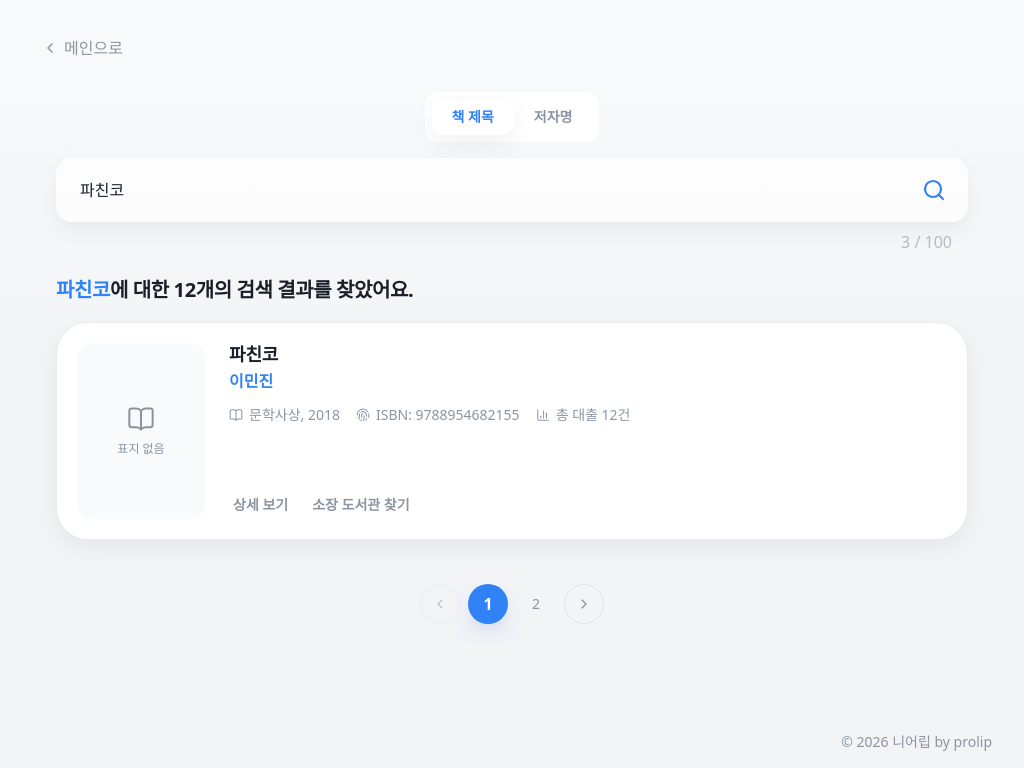
Scenario: app router integration › 도서 검색 결과에서 소장 도서관 찾기를 누르면 지역 선택 창을 열고 다시 닫을 수 있다
Click the button "소장 도서관 찾기" at (361, 505), box [308,491,414,519]
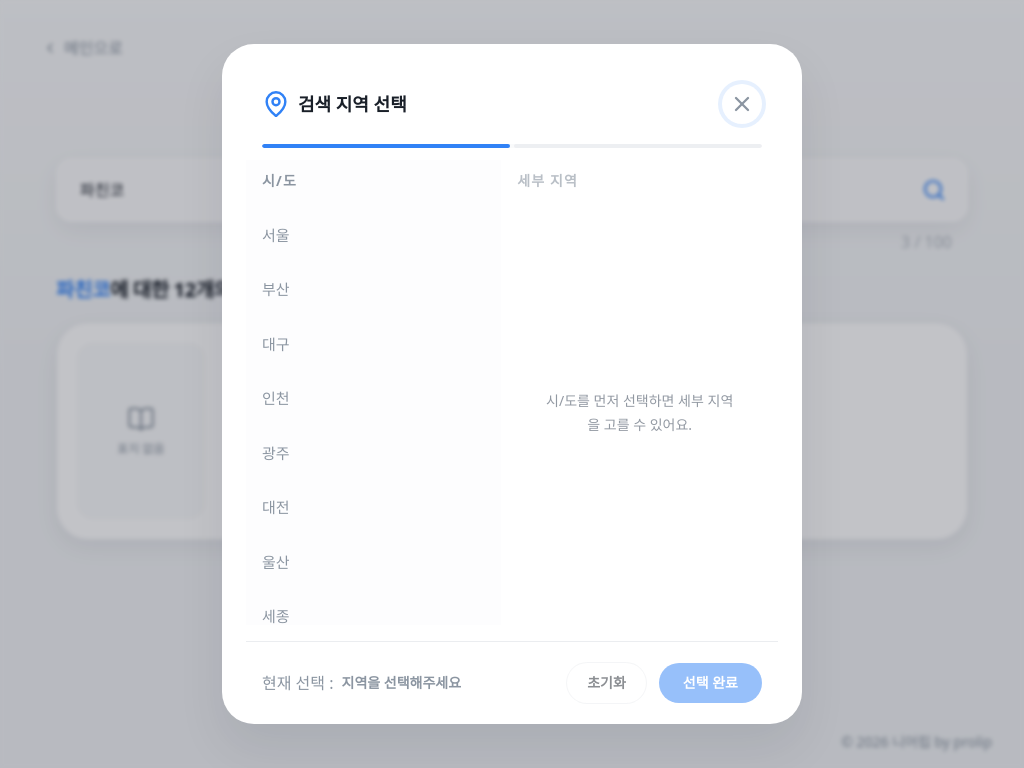
Check: the dialog "검색 지역 선택" is shown, box [222,44,802,724]
Check: the heading "시/도" is shown, box [262,171,297,190]
Check: the heading "세부 지역" is shown, box [517,171,578,190]
Click the button named "닫기" at (742, 104), box [722,84,762,124]
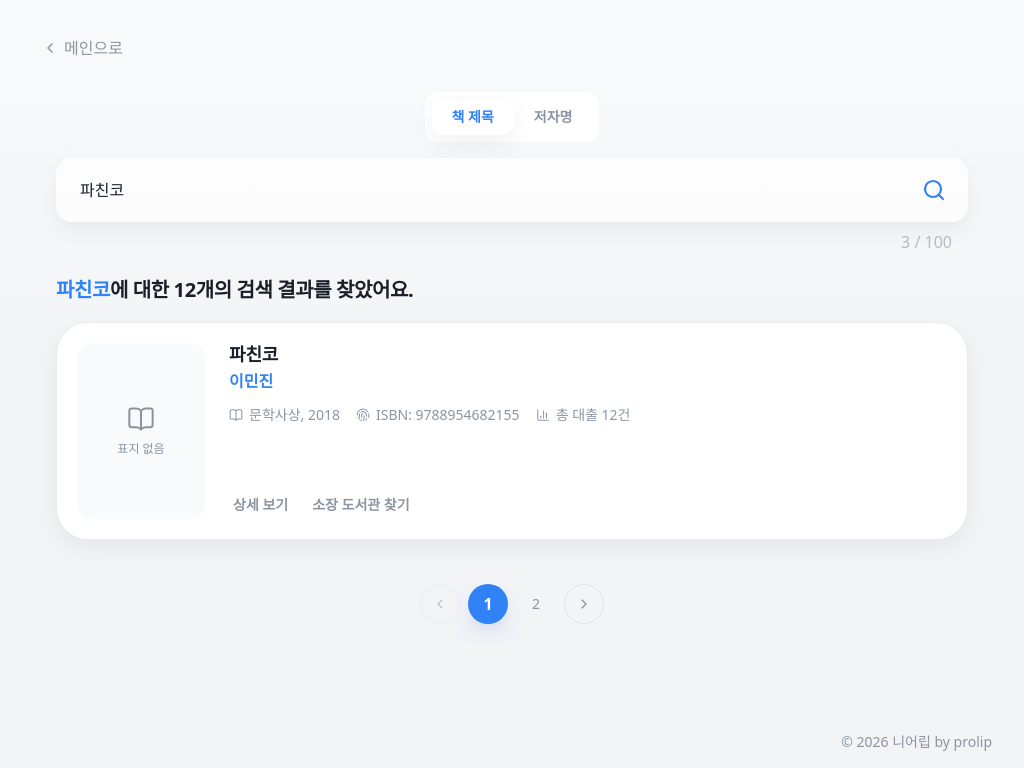
Check: the form named "도서 결과 재검색" is shown, box [56,158,968,254]
Check: the heading "검색 지역 선택" is gone
